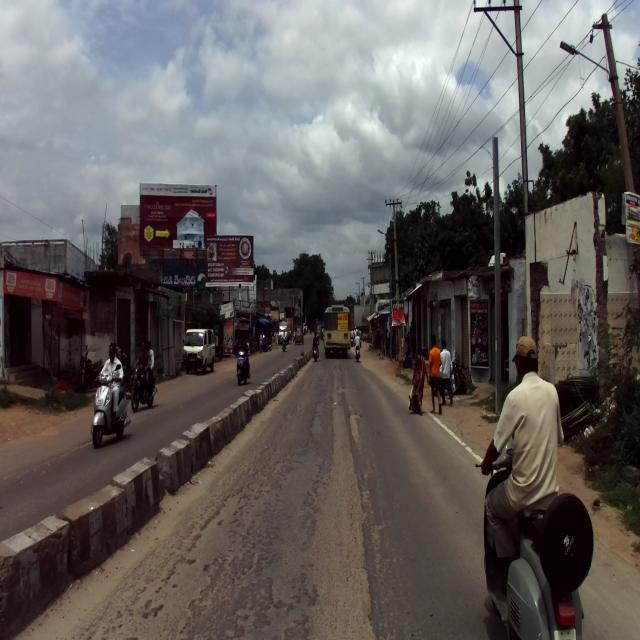pothole: (160, 516, 400, 640), (306, 382, 368, 490), (200, 455, 278, 514)
